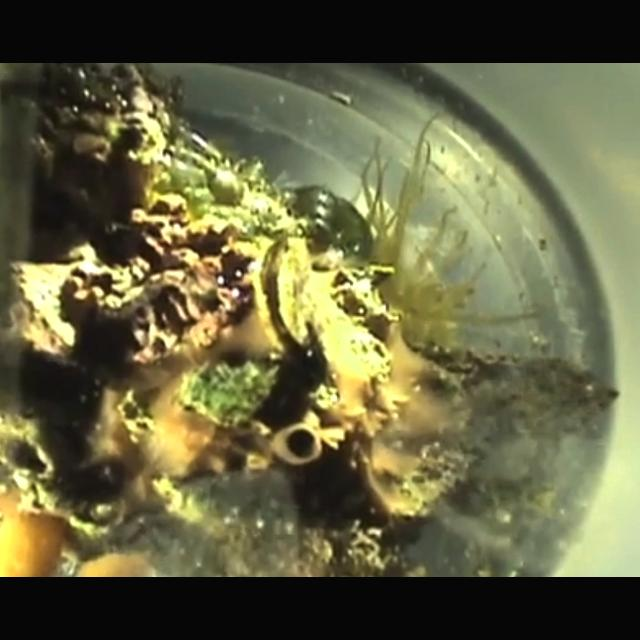Oyster-Open: (251, 233, 313, 354)
